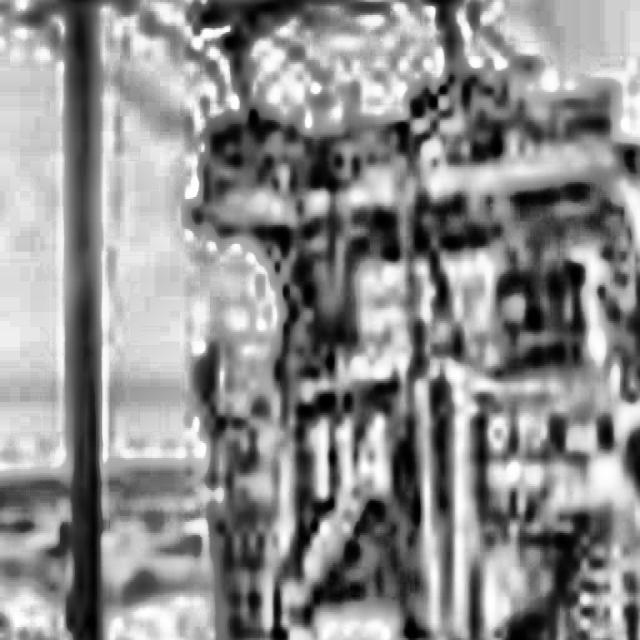dump_truck: (195, 56, 640, 640)
